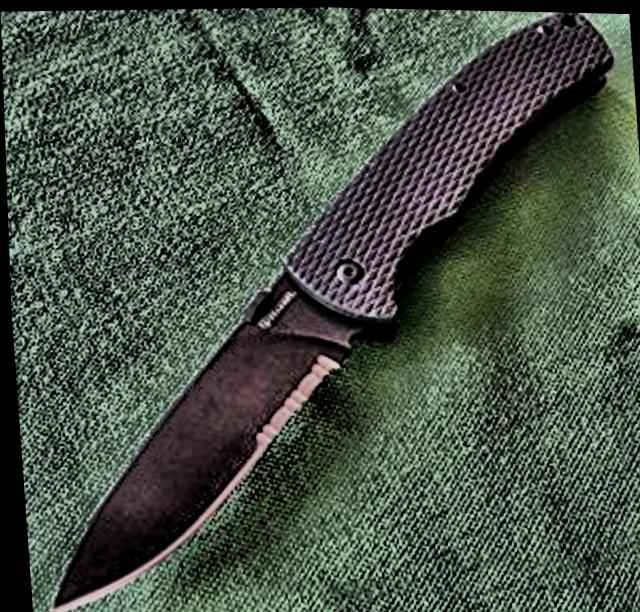knife: (11, 250, 388, 612)
